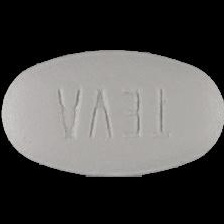0172-5313: (0, 0, 224, 224)
